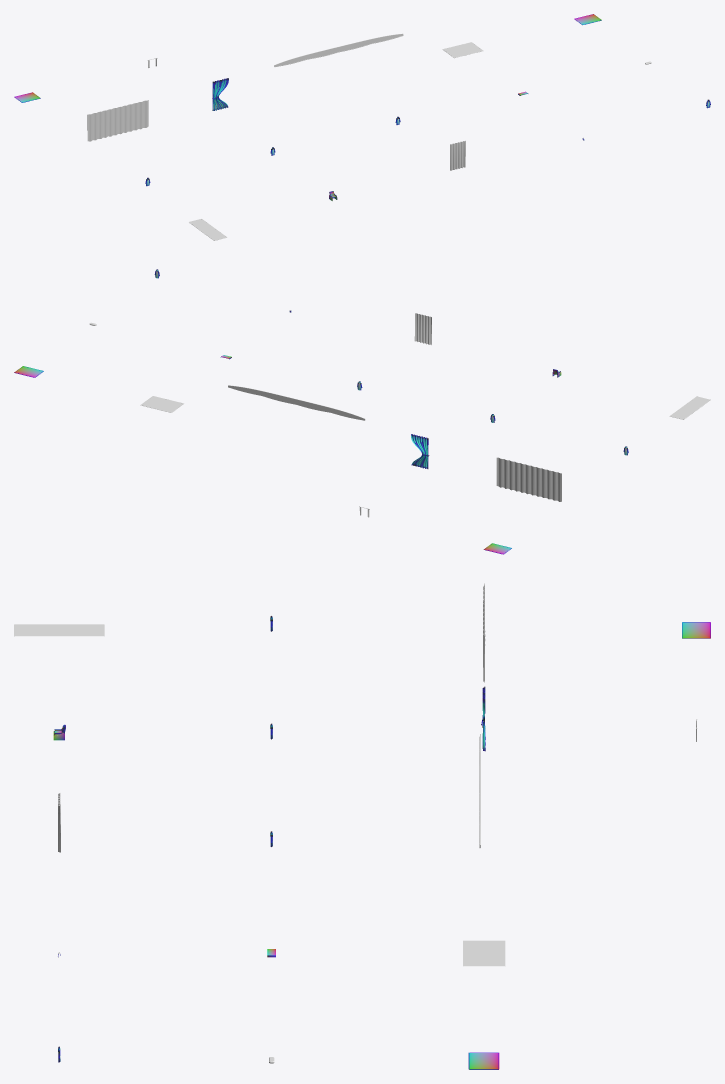
Rendered from StageShift_Fabric.fbx.
3 renders of one model, top to bottom at view 1: azimuth 30°, elevation 25°; view 2: azimuth 150°, elevation 25°; view 3: azimuth 270°, elevation 25°, orthographic. The views are drawn at different scales.
Visible parts, largest first — view 1: Main_Curtain_Leaf, Proscenium_Valance, Backstage_Mask_Cloth, Proscenium_Tied_Drape, Rug_Burgundy, Auditorium_Aisle; view 2: Main_Curtain_Leaf, Proscenium_Valance, Backstage_Mask_Cloth; view 3: Auditorium_Aisle, Rug_Burgundy.
Boxes of the visible parts, <box> form: Main_Curtain_Leaf: <box>87,100,148,141</box>; Proscenium_Valance: <box>274,33,403,66</box>; Backstage_Mask_Cloth: <box>450,140,465,170</box>; Proscenium_Tied_Drape: <box>212,78,228,110</box>; Rug_Burgundy: <box>442,42,483,58</box>; Auditorium_Aisle: <box>189,219,227,240</box>; Main_Curtain_Leaf: <box>496,457,561,501</box>; Proscenium_Valance: <box>228,385,365,420</box>; Backstage_Mask_Cloth: <box>414,313,431,344</box>; Auditorium_Aisle: <box>14,624,104,636</box>; Rug_Burgundy: <box>463,940,505,966</box>.
Bounding box in the file's own units: 9972 × 675 × 6564.
